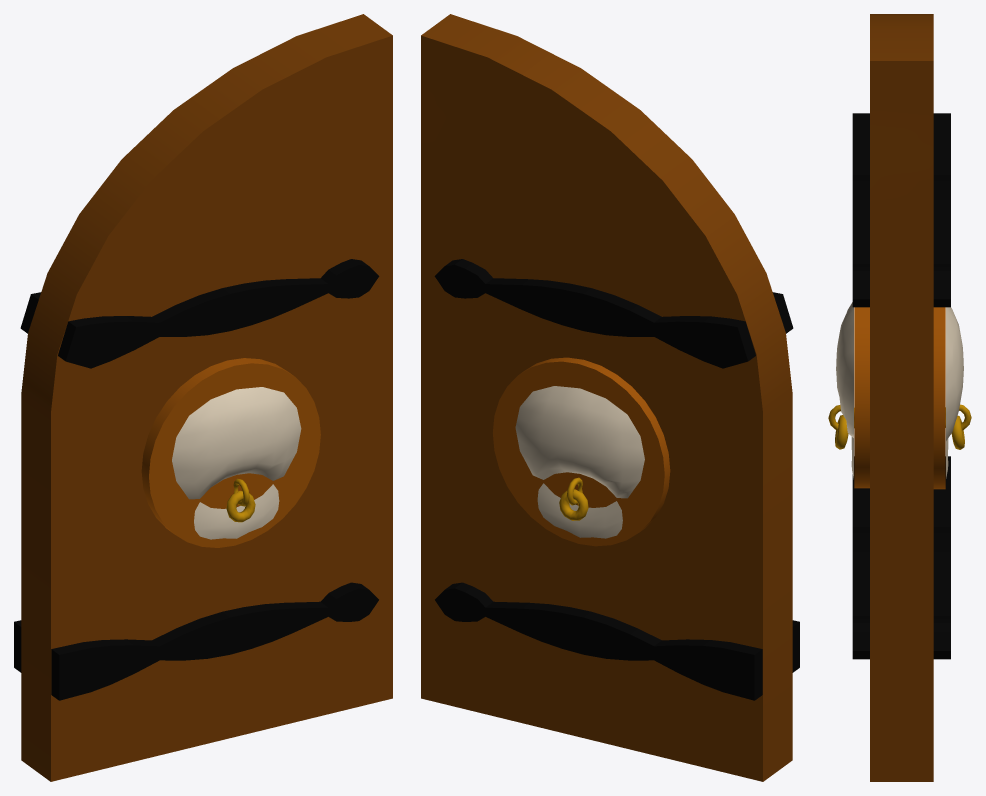
Rendered from Door 1.fbx.
3 renders of one model, left to right at view 1: azimuth 30°, elevation 25°; view 2: azimuth 150°, elevation 25°; view 3: azimuth 270°, elevation 25°, orthographic. The views are drawn at different scales.
Parts seen in each view (by area): view 1: Door; view 2: Door; view 3: Door.
Part boxes in pixels (x1=…): Door: x1=14, y1=14, x2=392, y2=781; Door: x1=421, y1=14, x2=799, y2=781; Door: x1=828, y1=14, x2=971, y2=781.
Size of the model in its own units: 122 by 225 by 40.52.
